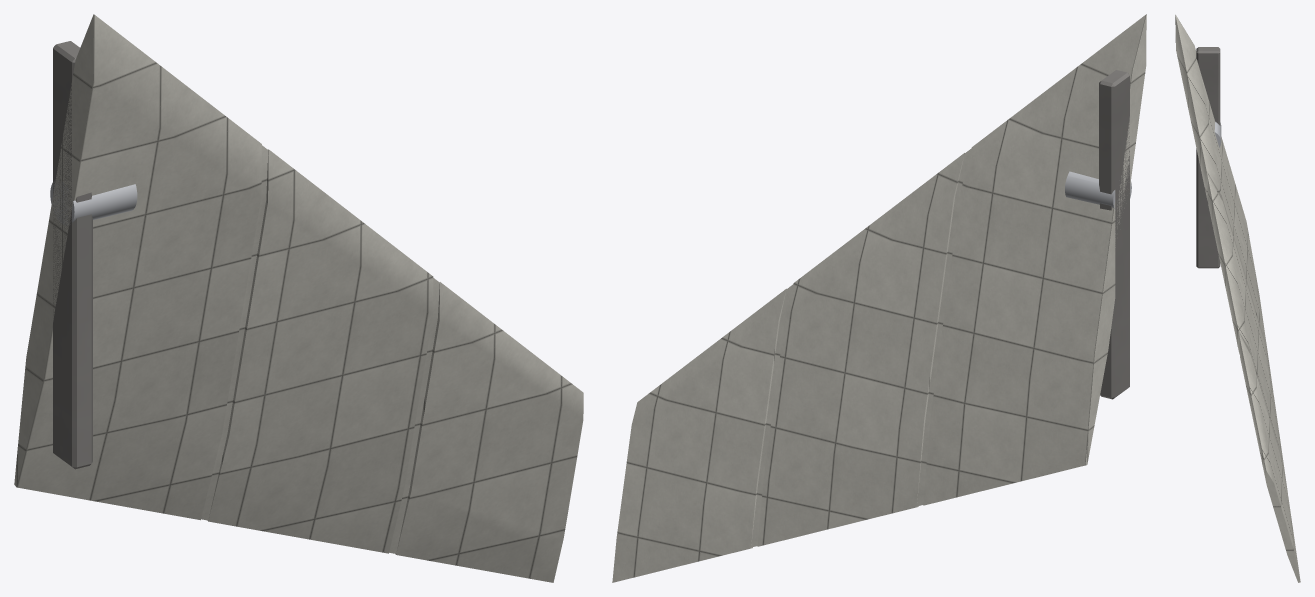
Rendered from ax_aero_22_tlc_canard_defl_pos.glb.
The picture shows the model from 3 angles, left to right: view 1: azimuth 30°, elevation 25°; view 2: azimuth 150°, elevation 25°; view 3: azimuth 270°, elevation 25°; orthographic projection. The views are drawn at different scales.
Parts seen in each view (by area): view 1: wing_top, root_flange, wing_underside, pivot_shaft; view 2: wing_underside, root_flange, wing_top, pivot_shaft; view 3: wing_underside, root_flange, wing_top.
Part boxes in pixels (left/top/right/bottom): wing_top: left=15, top=14, right=583, bottom=582; root_flange: left=53, top=41, right=92, bottom=469; wing_underside: left=14, top=15, right=93, bottom=485; pivot_shaft: left=50, top=179, right=137, bottom=225; wing_underside: left=612, top=14, right=1146, bottom=582; root_flange: left=1099, top=70, right=1129, bottom=399; wing_top: left=752, top=15, right=1146, bottom=548; pivot_shaft: left=1065, top=171, right=1131, bottom=209; wing_underside: left=1175, top=14, right=1300, bottom=582; root_flange: left=1196, top=47, right=1220, bottom=268; wing_top: left=1175, top=15, right=1299, bottom=582.
Size of the model in its own units: 1.1 by 1.45 by 0.3921.
Materials: 3 (3 with a texture image).
